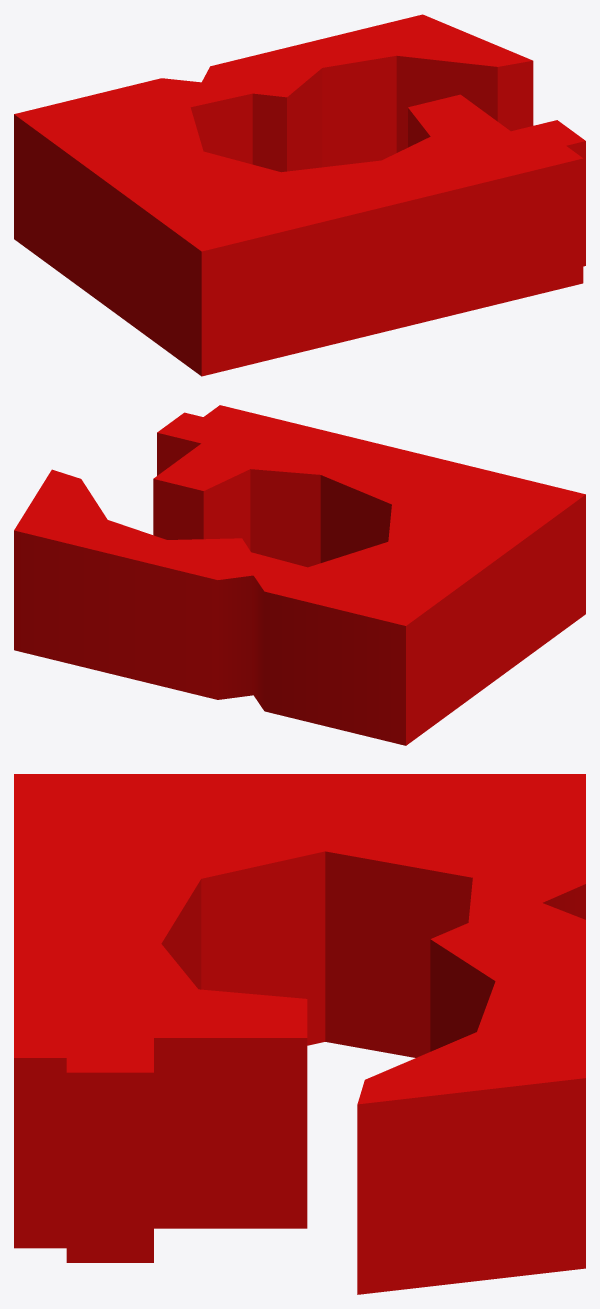
File: Asset_KeyFragment5.glb
3 renders of one model, top to bottom at view 1: azimuth 30°, elevation 25°; view 2: azimuth 150°, elevation 25°; view 3: azimuth 270°, elevation 25°, orthographic. The views are drawn at different scales.
Visible parts, largest first — view 1: Asset_KeyFragment5; view 2: Asset_KeyFragment5; view 3: Asset_KeyFragment5.
Part boxes in pixels (bbox=[...]): Asset_KeyFragment5: bbox=[14, 14, 585, 376]; Asset_KeyFragment5: bbox=[14, 405, 585, 745]; Asset_KeyFragment5: bbox=[14, 774, 585, 1294].
Size of the model in its own units: 22.96 by 6.17 by 16.8.
